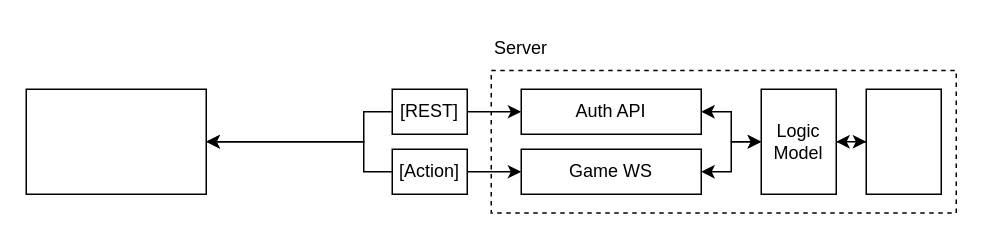
Some shapes in this 983 by 240 pixel diagram are drawn without their labels. The centre of each missing label's shape, as x and y in pixels:
"Client" belongs at point (115, 141).
"DB" belongs at point (903, 141).
